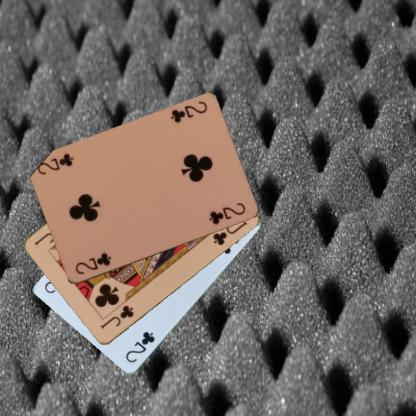2c: (122, 328, 156, 364), (72, 250, 112, 276), (168, 99, 209, 124)
Jc: (98, 303, 135, 331)
